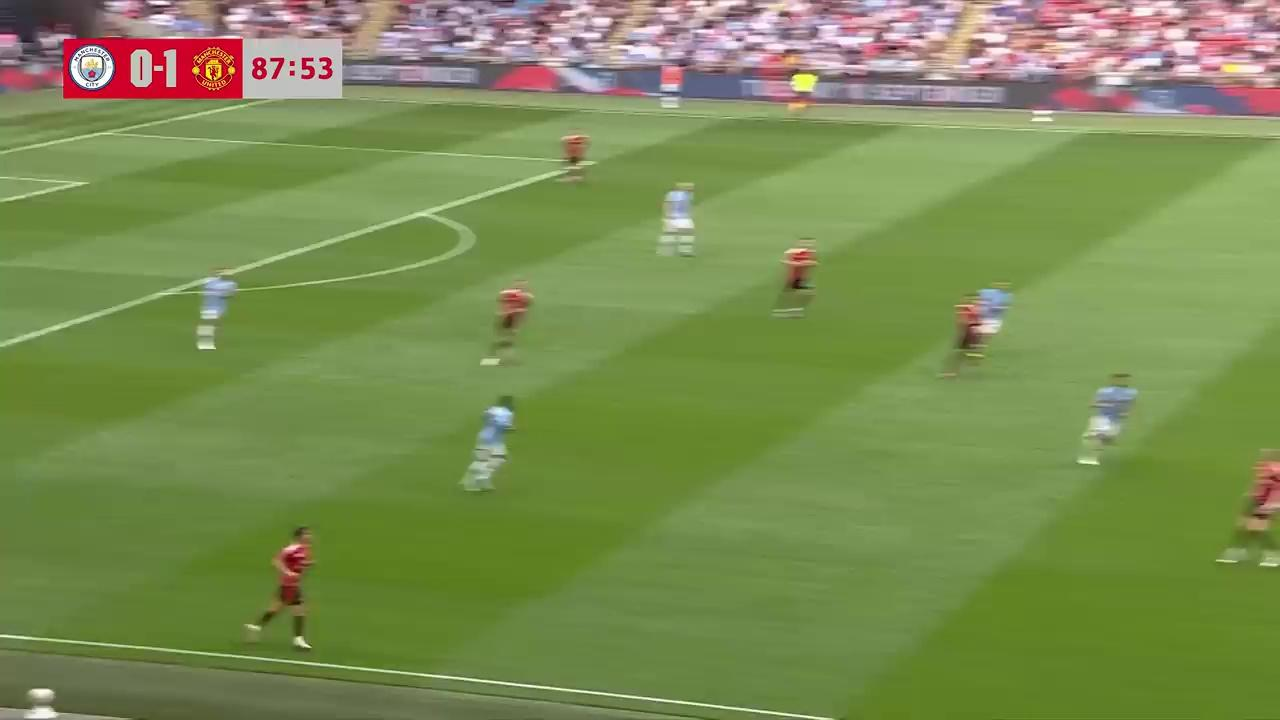player: (246, 526, 315, 649), (1224, 450, 1280, 561), (1078, 372, 1139, 465), (459, 397, 516, 490), (194, 270, 239, 352), (947, 296, 987, 374), (778, 239, 819, 315), (655, 182, 697, 255), (491, 279, 534, 349), (972, 279, 1013, 345), (558, 129, 591, 183)
referee: (790, 68, 820, 119)
